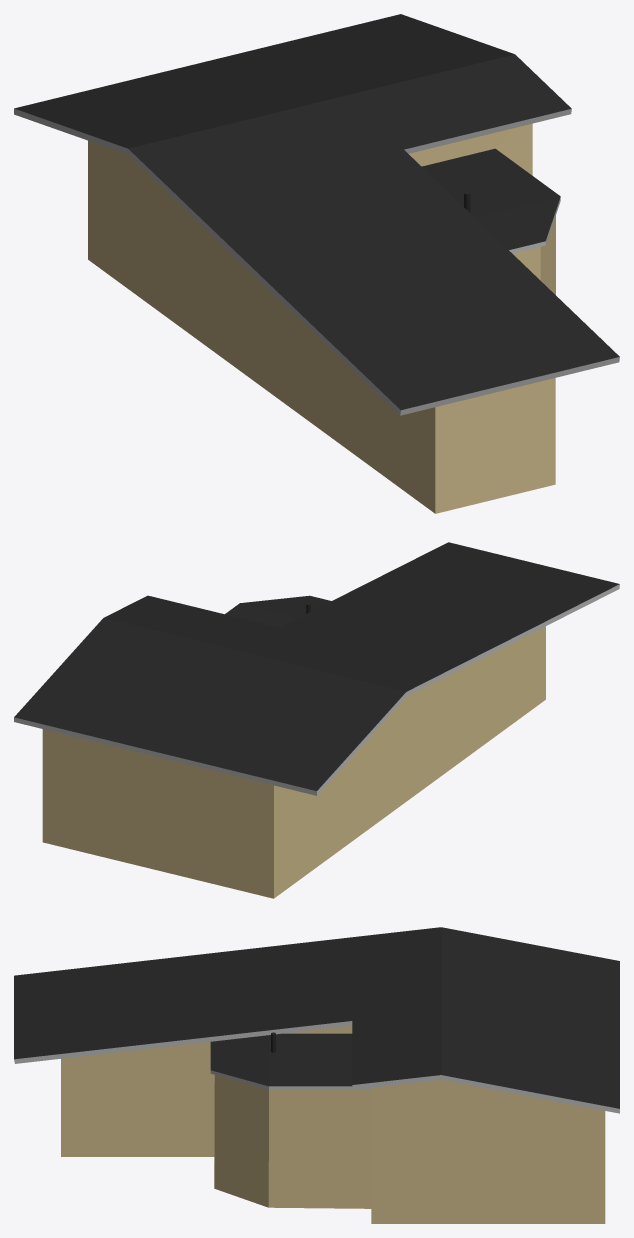
Rendered from Huset.fbx.
3 renders of one model, top to bottom at view 1: azimuth 30°, elevation 25°; view 2: azimuth 150°, elevation 25°; view 3: azimuth 270°, elevation 25°, orthographic. The views are drawn at different scales.
Parts seen in each view (by area): view 1: Taket, Fasaden, LilleTak; view 2: Taket, Fasaden, LilleTak; view 3: Taket, Fasaden, LilleTak.
Part boxes in pixels (x1,y1,x2,y2): Taket: (14, 14, 619, 415); Fasaden: (88, 123, 555, 513); LilleTak: (422, 148, 560, 253); Taket: (14, 542, 619, 795); Fasaden: (42, 626, 545, 898); LilleTak: (225, 595, 331, 627); Taket: (14, 927, 619, 1113); Fasaden: (61, 1025, 605, 1223); LilleTak: (210, 1033, 371, 1089).
Size of the model in its own units: 1747 by 877 by 3026.
